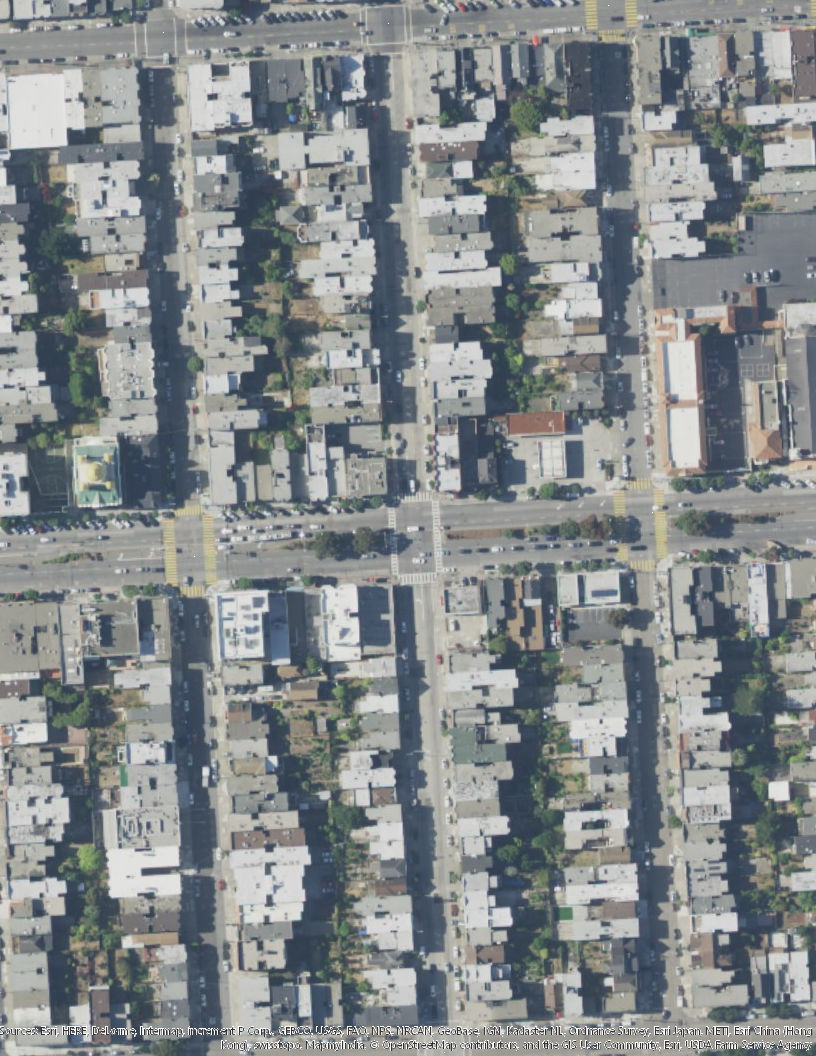zebracross: (199, 515, 218, 586), (160, 517, 179, 585), (613, 491, 630, 563), (652, 489, 669, 559), (385, 506, 400, 574), (431, 502, 445, 572), (623, 1, 640, 28), (178, 584, 208, 599), (399, 491, 431, 505), (583, 1, 599, 29), (397, 574, 436, 585), (597, 29, 629, 42), (627, 559, 658, 572), (171, 506, 204, 518), (624, 477, 654, 490), (811, 2, 816, 21)
